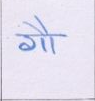au_matra: (30, 16, 62, 52)
